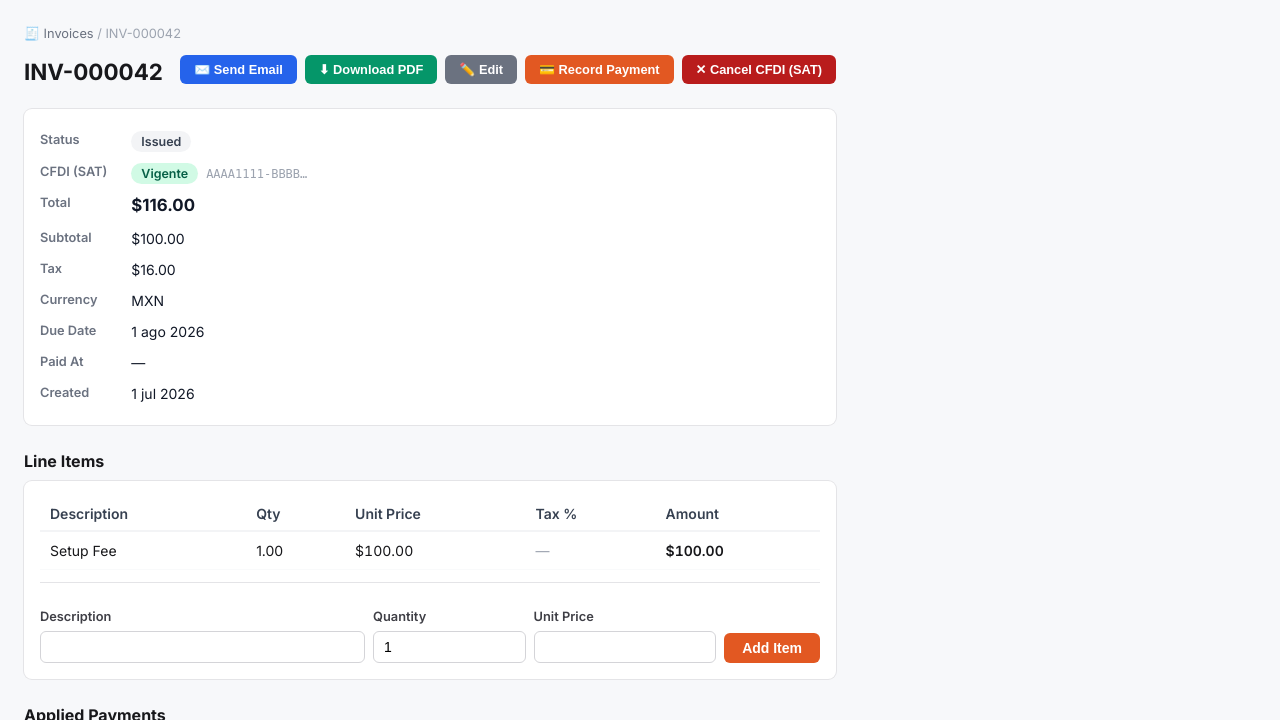
InvoiceDetail void vs. SAT cancel › submits POST /cfdi/cancel with the chosen motivo from the modal
Click the button "✕ Cancel CFDI (SAT)". click: (759, 70)
box: [682,55,836,84]
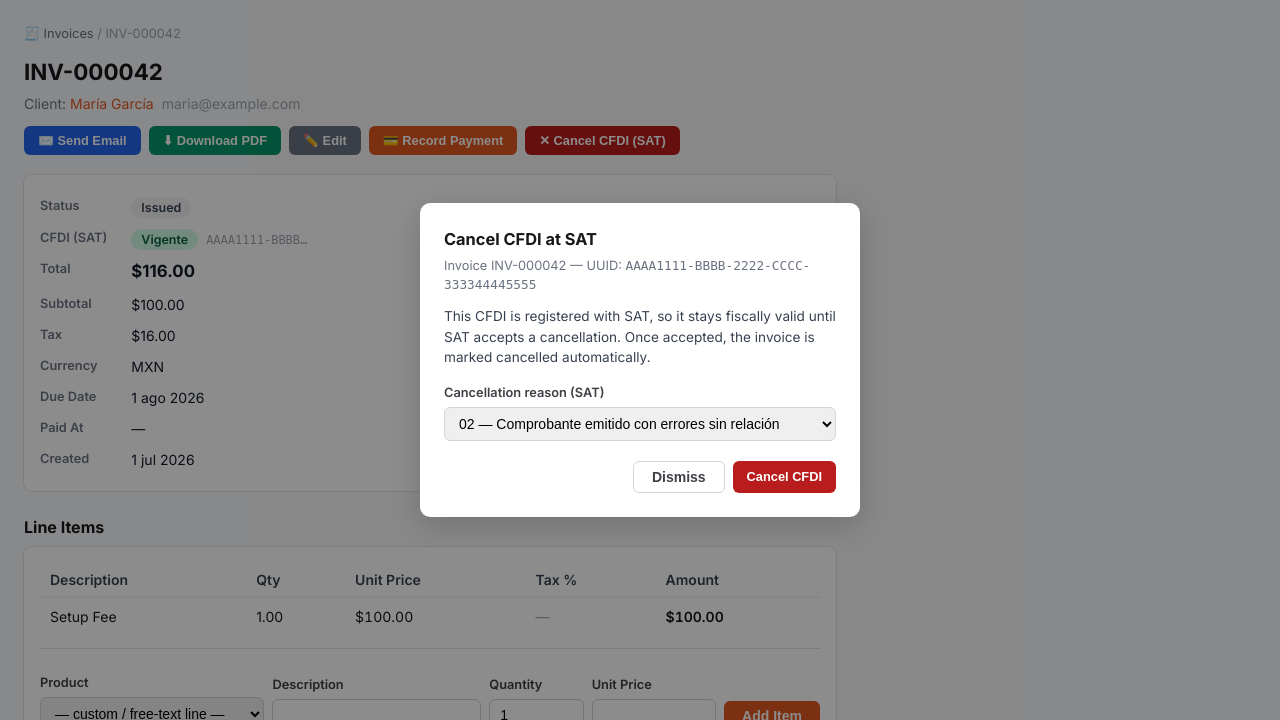
Expected: the dialog "Cancel CFDI at SAT" is shown
Click the button "Cancel CFDI". click: (784, 477)
box: [733,461,836,493]
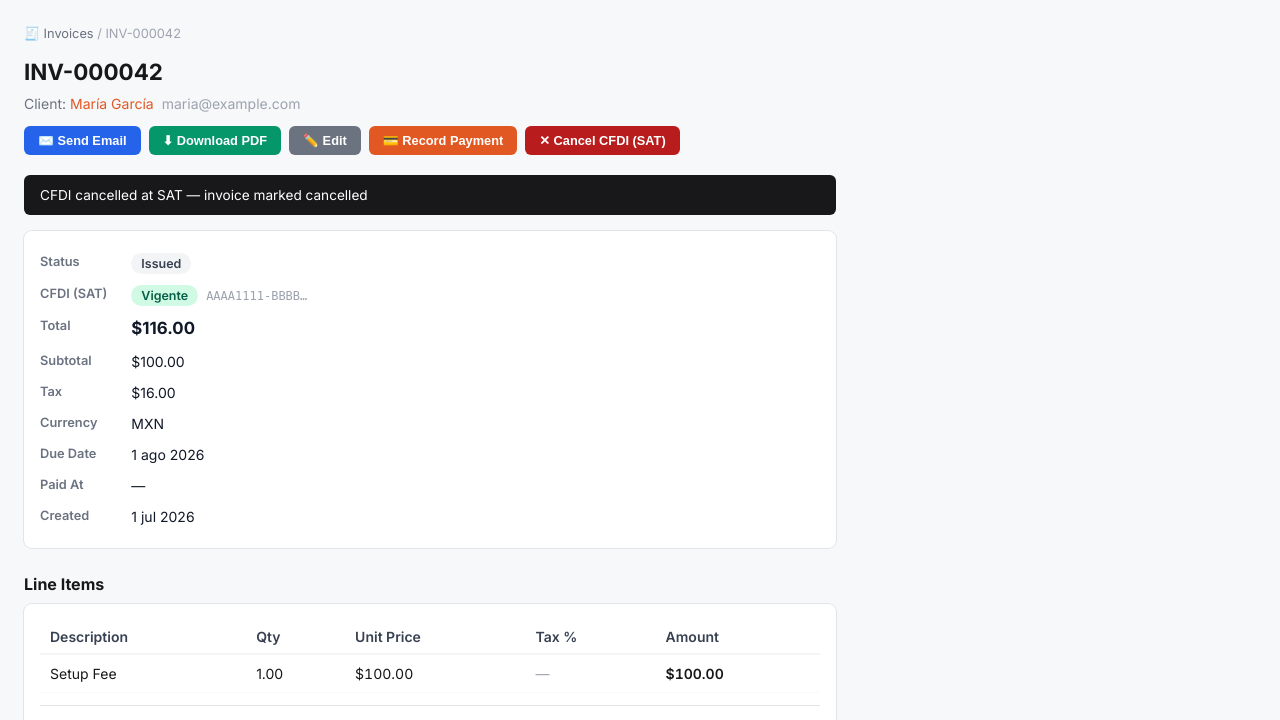
Expected: the text "CFDI cancelled at SAT — invoice marked cancelled" is shown, [24,175,836,215]
